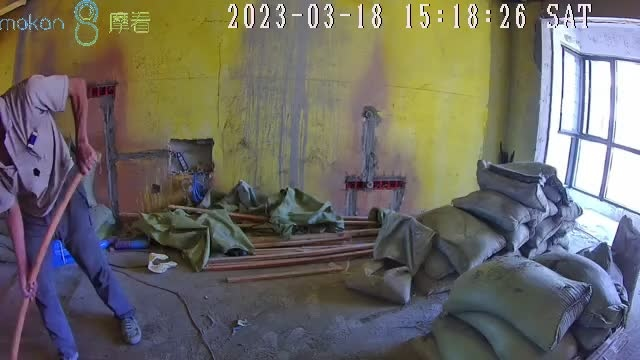people: (1, 75, 142, 360)
window: (545, 45, 640, 216)
